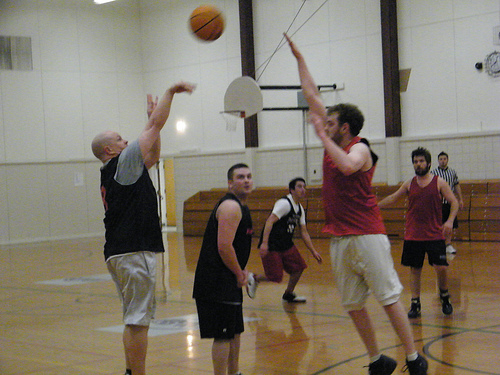basketball: (188, 5, 224, 43)
